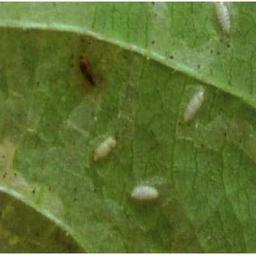liriomyza: (181, 87, 204, 122), (91, 133, 115, 162), (212, 1, 231, 34), (129, 184, 159, 200)
